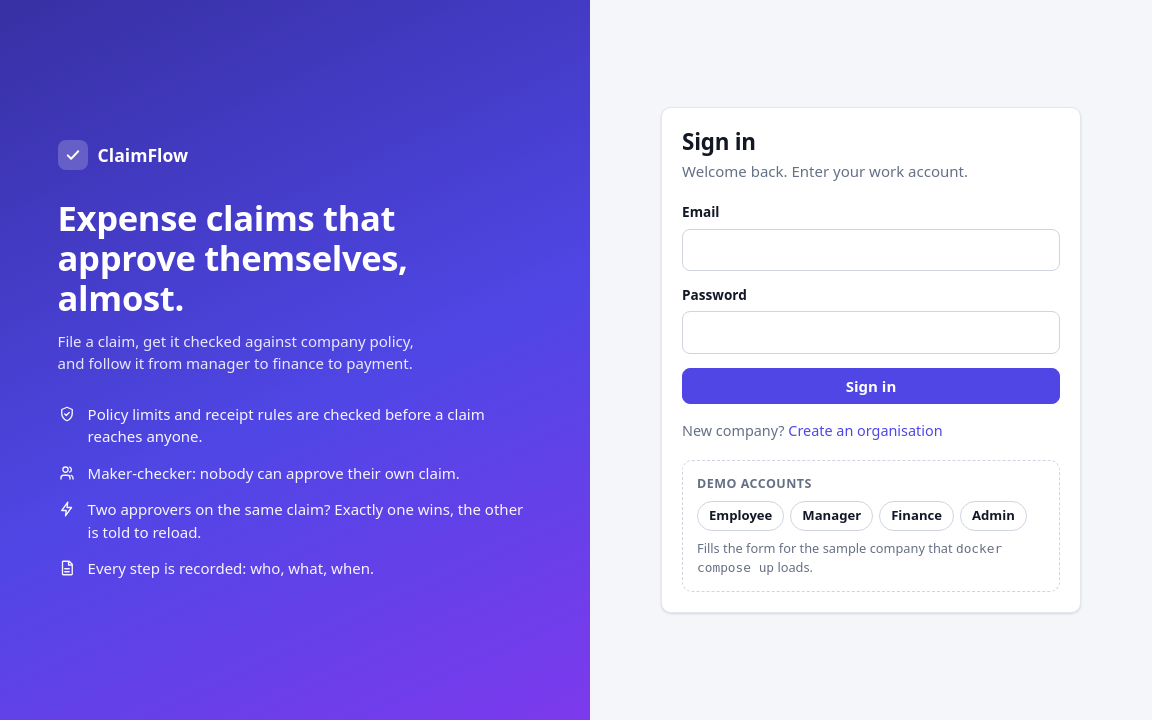
LoginPage › shows the server message when the password is wrong
Step 1. Type "a@b.com" into the field labelled "Email" → (871, 250), box [682,228,1060,271]
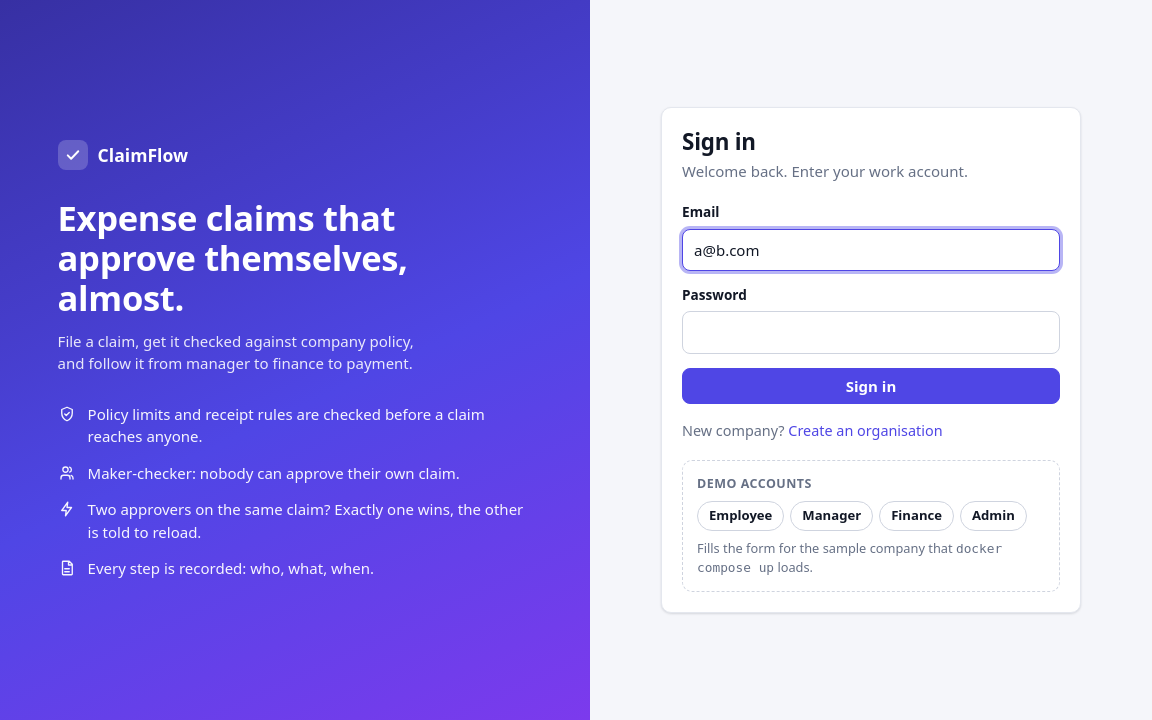
Step 2. Type "wrong" into the password field labelled "Password" → (871, 333), box [682,311,1060,354]
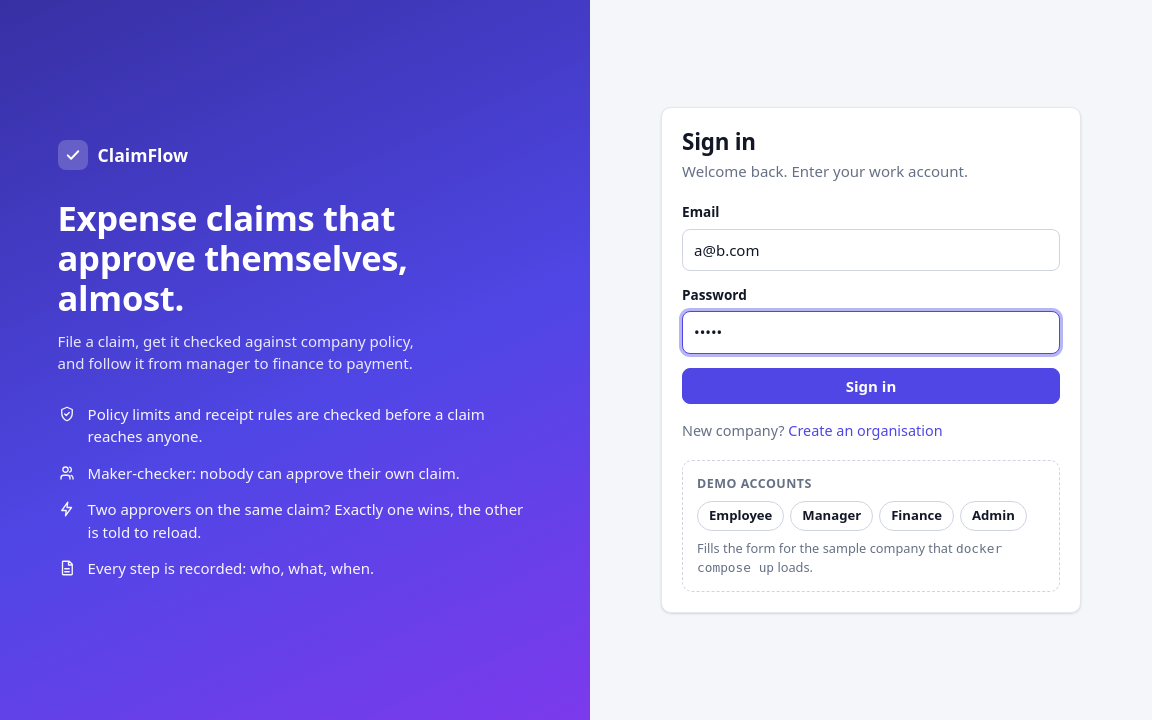
Step 3. Click the button "Sign in" → (871, 386), box [682,368,1060,404]
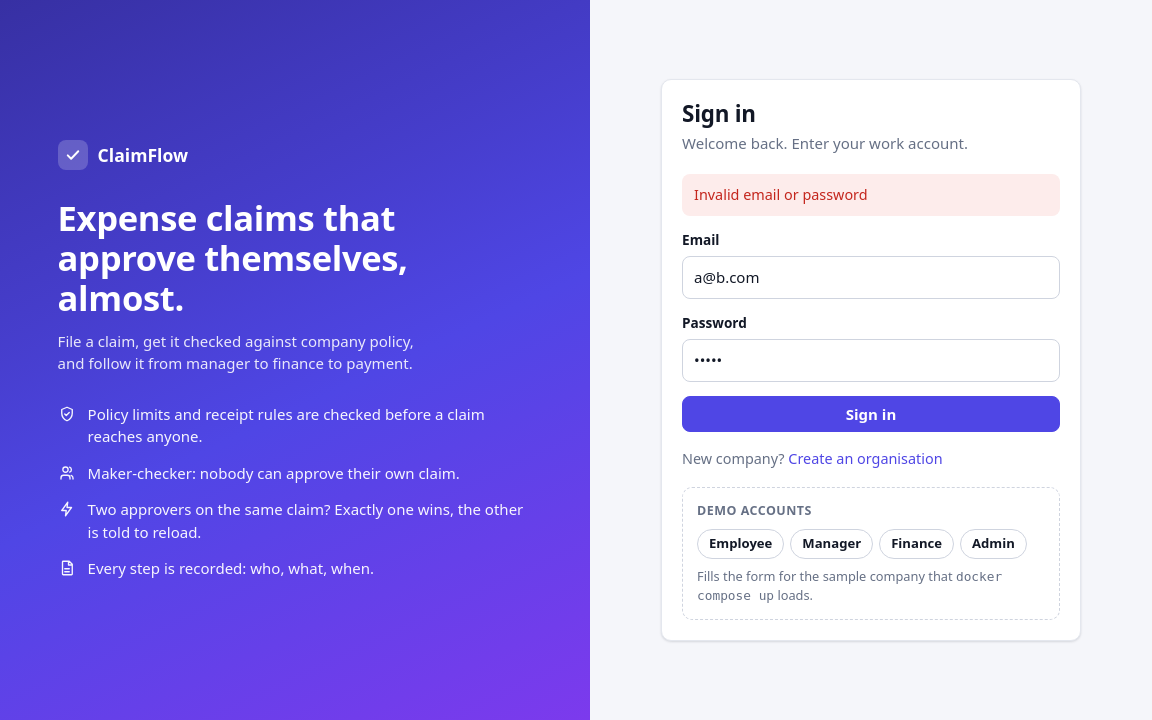
Now the message reads "Invalid email or password", box [694,185,868,204]
